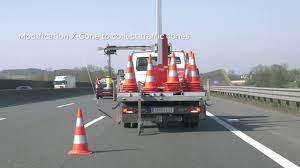cones: (66, 104, 94, 156), (136, 50, 157, 95), (182, 50, 201, 93), (117, 57, 138, 92), (165, 54, 180, 94)
